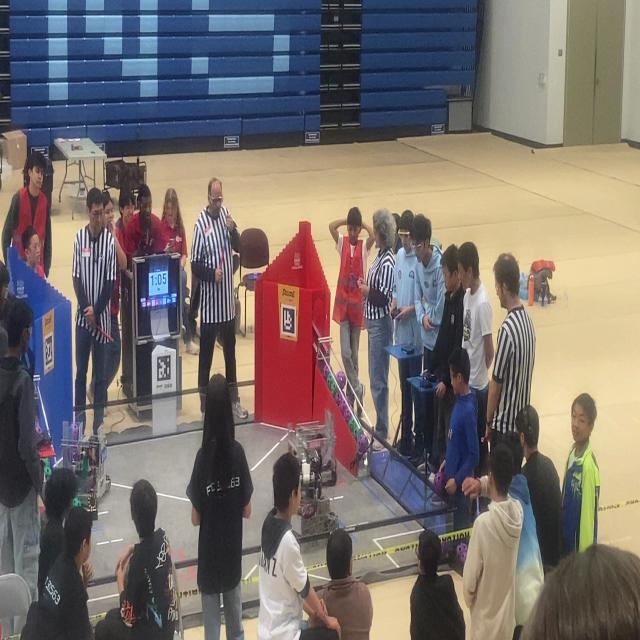artifact_green: (327, 374, 338, 395), (349, 416, 359, 434), (44, 458, 52, 479), (353, 426, 363, 442), (73, 497, 82, 508), (44, 467, 51, 479)
artifact_purple: (357, 431, 368, 456), (434, 471, 445, 495), (457, 543, 467, 564), (343, 400, 352, 423), (327, 374, 337, 394), (341, 401, 350, 423), (349, 415, 359, 433), (336, 371, 346, 389), (338, 395, 347, 414), (70, 423, 78, 441), (334, 389, 342, 407), (441, 541, 449, 559), (353, 427, 362, 442), (322, 364, 330, 380)
